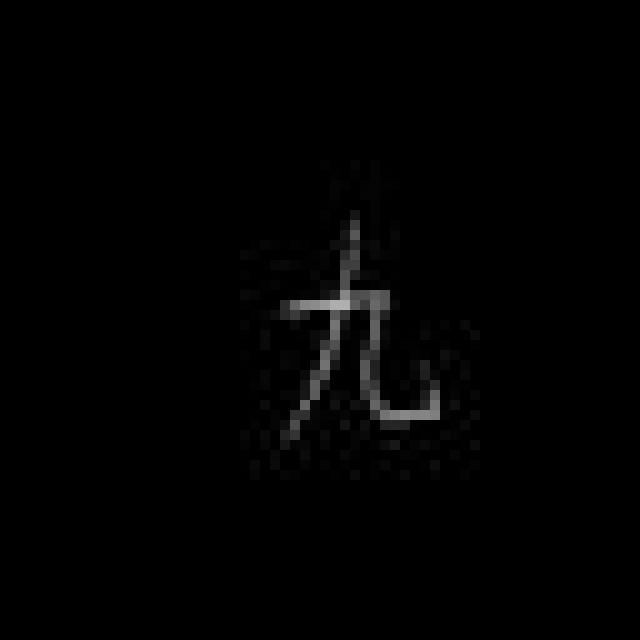9 -nine-: (275, 218, 436, 446)
